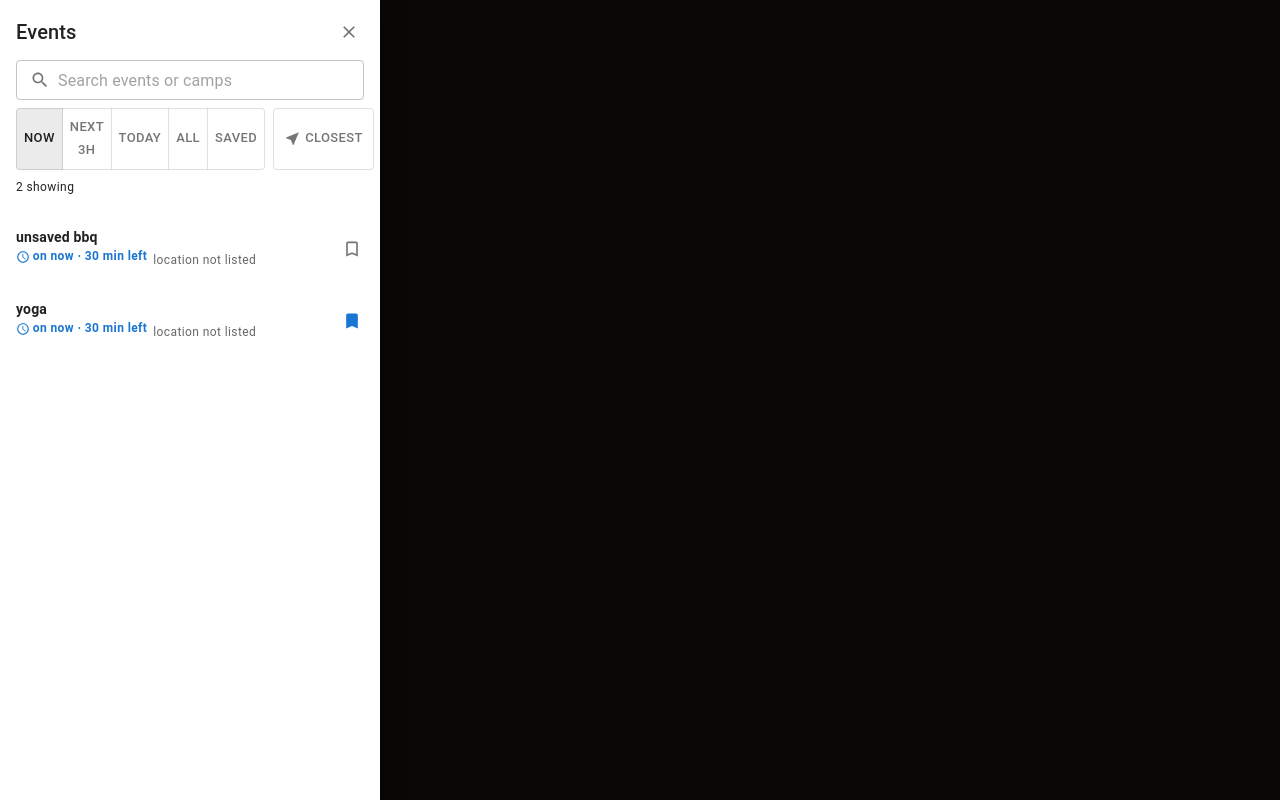
Test: EventsPanel · Saved window (#60) › shows only saved events, ordered by their relevant occurrence
Click the button "Saved".
click(236, 139)  # box [207, 108, 265, 170]
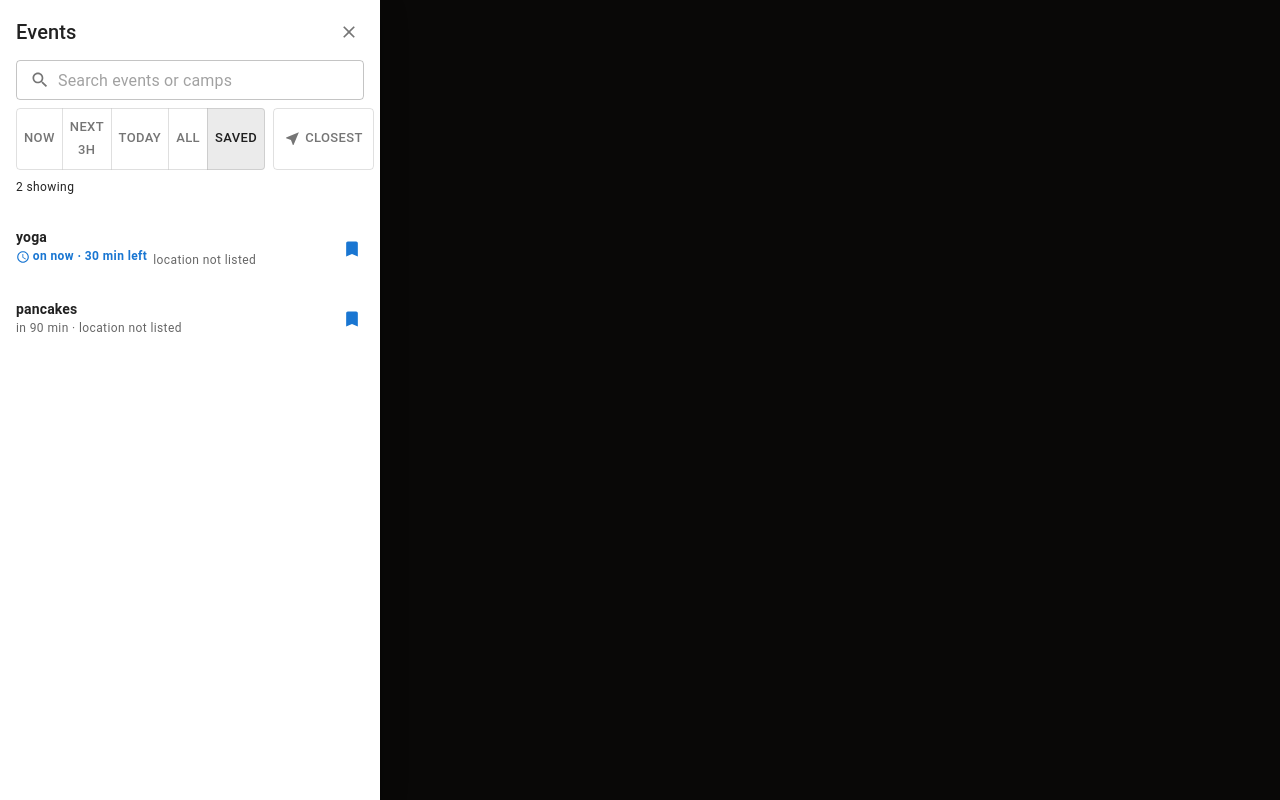
Expected: the text "yoga" is shown, [16, 229, 47, 245]
Expected: the text "pancakes" is shown, [16, 301, 77, 317]
Expected: the button "unsaved bbq" is gone
